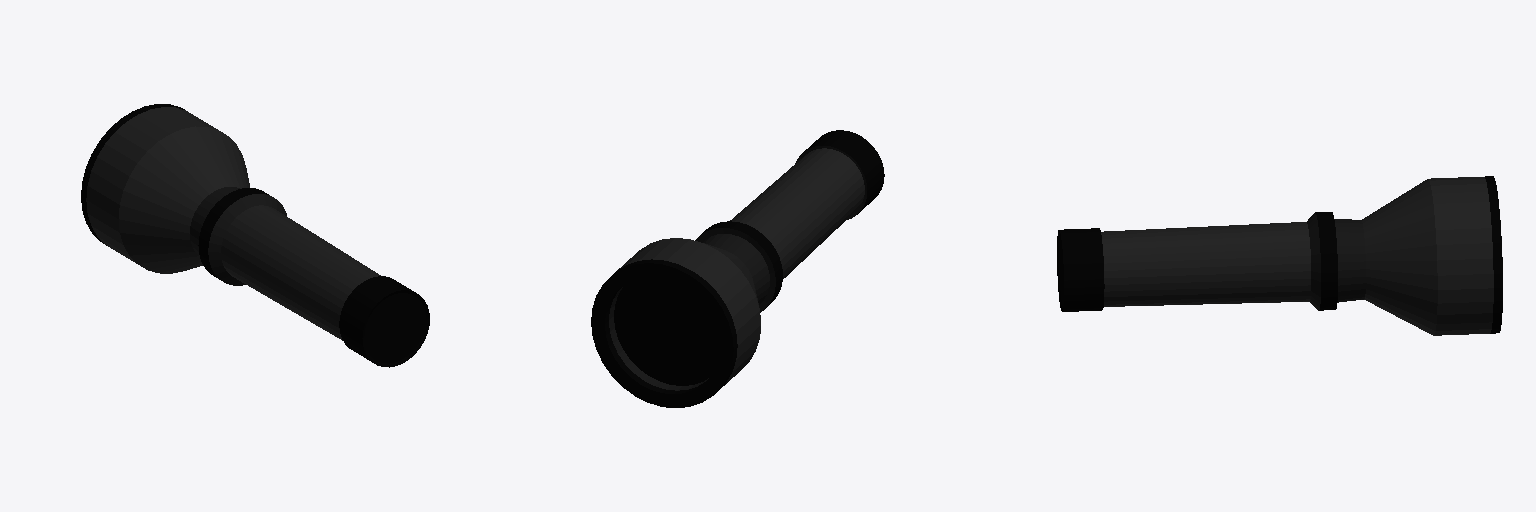
The model's file is flashlight.obj.
3 views of the same model, side by side, from view 1: azimuth 30°, elevation 25°; view 2: azimuth 150°, elevation 25°; view 3: azimuth 270°, elevation 25° (orthographic).
Visible parts, largest first — view 1: Cylinder; view 2: Cylinder; view 3: Cylinder.
Boxes of the visible parts, x1=… form: Cylinder: x1=81, y1=104, x2=429, y2=367; Cylinder: x1=591, y1=130, x2=884, y2=407; Cylinder: x1=1057, y1=176, x2=1502, y2=335.
Size of the model in its own units: 2.32 by 2.25 by 6.37.